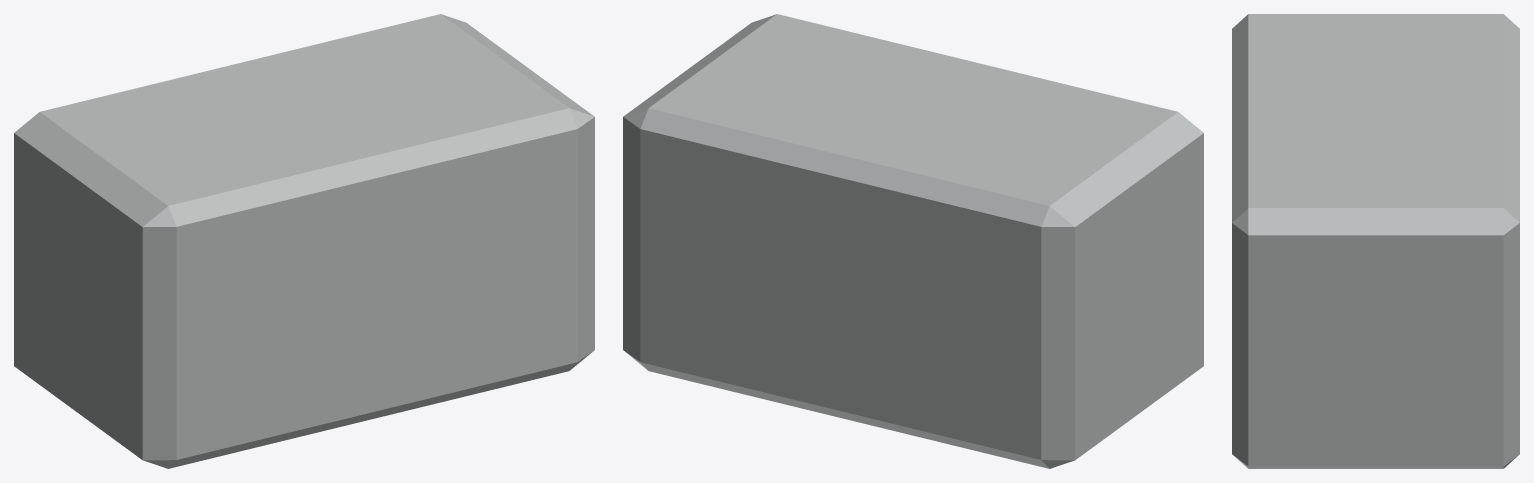
File: Rock_Block_m_02.fbx
The picture shows the model from 3 angles, left to right: view 1: azimuth 30°, elevation 25°; view 2: azimuth 150°, elevation 25°; view 3: azimuth 270°, elevation 25°; orthographic projection.
Visible parts, largest first — view 1: Rock_Block_m_02; view 2: Rock_Block_m_02; view 3: Rock_Block_m_02.
Boxes of the visible parts, x1,y1,x2,y2 form: Rock_Block_m_02: (14, 14, 594, 468); Rock_Block_m_02: (623, 14, 1203, 468); Rock_Block_m_02: (1232, 14, 1519, 468).
Bounding box in the file's own units: 113 × 63 × 63.
